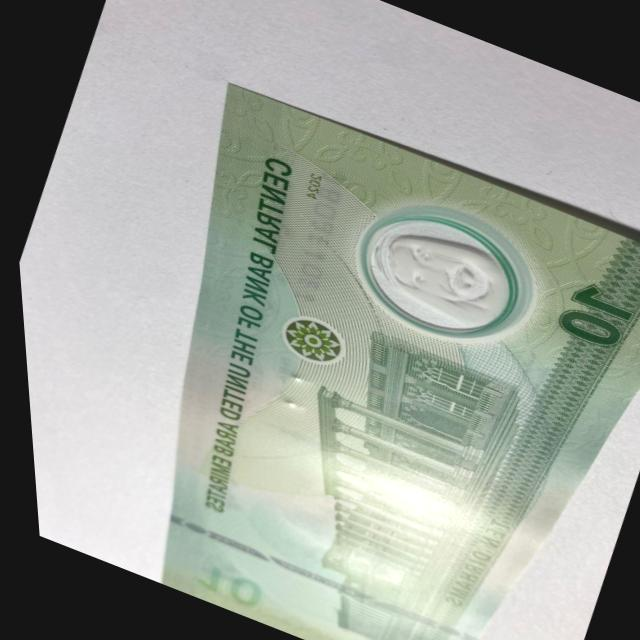10_AED: (166, 75, 640, 640)
